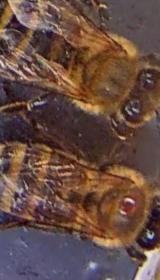varroa_mite: (110, 190, 142, 221)
